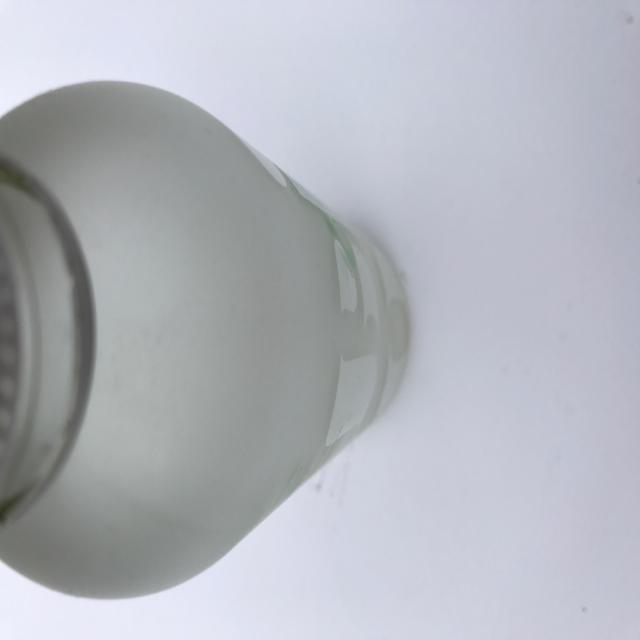glass: (1, 78, 412, 601)
